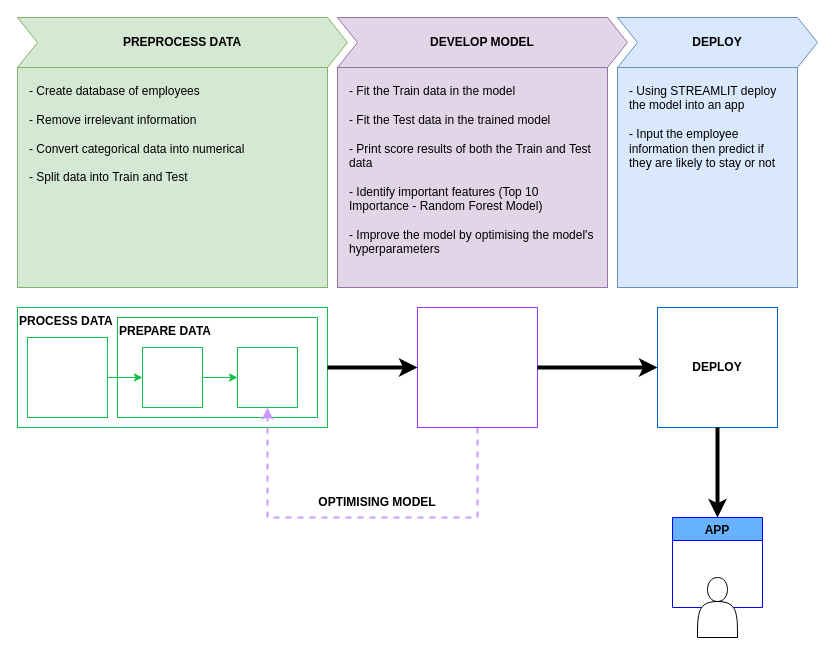
Image size: 835x655. Some labels were removed from this diagram. The shapes that lost their labels are listed below. From the top down, each one's centre as x and y in pixels, then its label:
[67,377]: COLLECT DATA
[172,377]: PRE PROCESS DATA
[267,377]: SELECT FEATURES
[477,367]: TRAIN AND TEST DATA
[717,607]: HR
